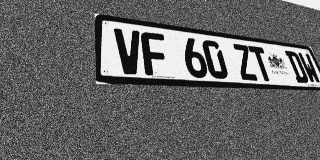0: (201, 39, 229, 79)
6: (180, 37, 210, 78)
D: (284, 50, 310, 83)
F: (140, 31, 170, 76)
T: (248, 46, 275, 81)
V: (114, 28, 144, 75)
W: (297, 52, 320, 84)
Z: (231, 43, 259, 81)
